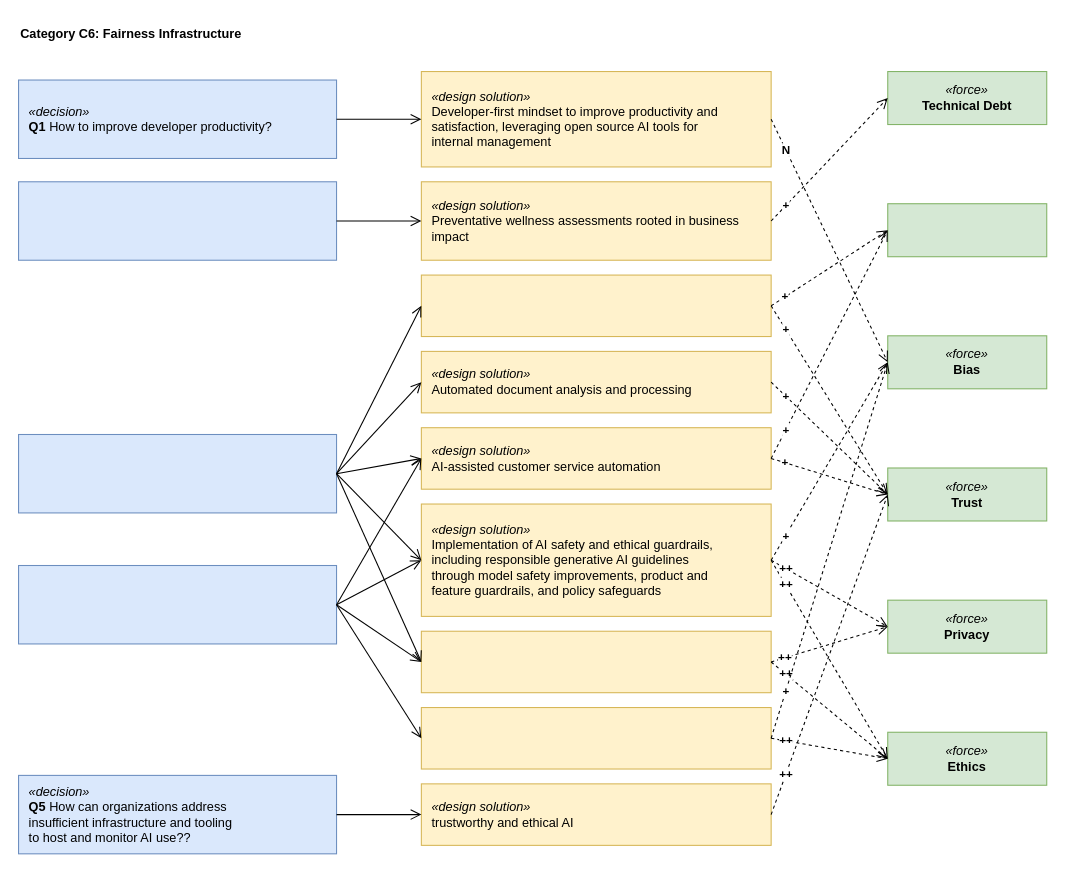
Image size: 1065x872. Some labels were removed from this diagram. Each missing label, with the centre of its shape:
"«decision» Q2 How to manage technical debt?" belongs at (x=177, y=220).
"«decision» Q3 How can copilots support the banking workforce?" belongs at (x=177, y=473).
"«decision» Q4 How will banks make ethical AI deployment happen?" belongs at (x=177, y=604).
"«design solution» AI-powered tools that enhance productivity" belongs at (x=595, y=305).
"«design solution» Comprehensive data infrastructure for ethical AI" belongs at (x=595, y=661).
"«design solution» Sophisticated data processing capabilities" belongs at (x=595, y=737).
"«force» Transparency" belongs at (x=967, y=230).
